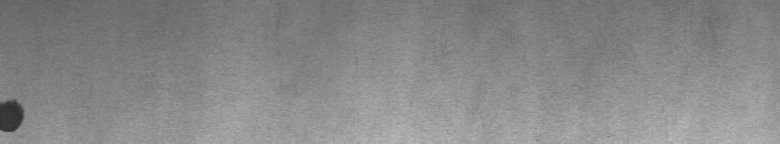fi: (4, 92, 31, 136)
